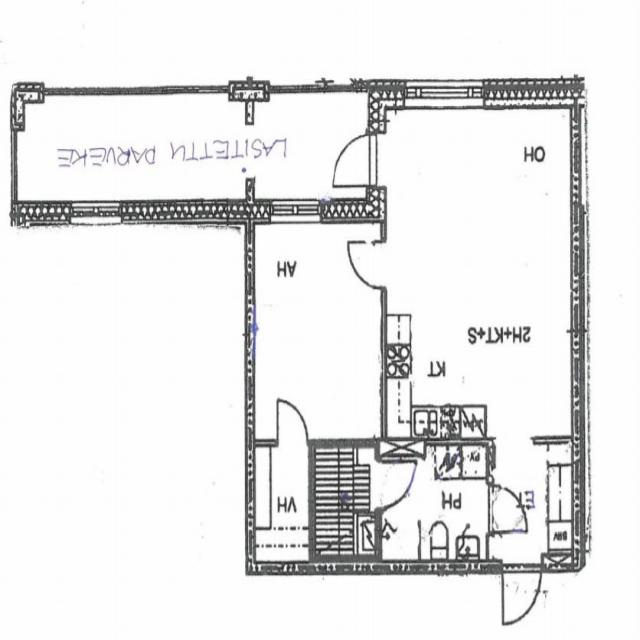door: (503, 564, 540, 626), (332, 135, 376, 185), (374, 462, 414, 509), (347, 241, 386, 288), (488, 486, 524, 533), (277, 397, 307, 446)
